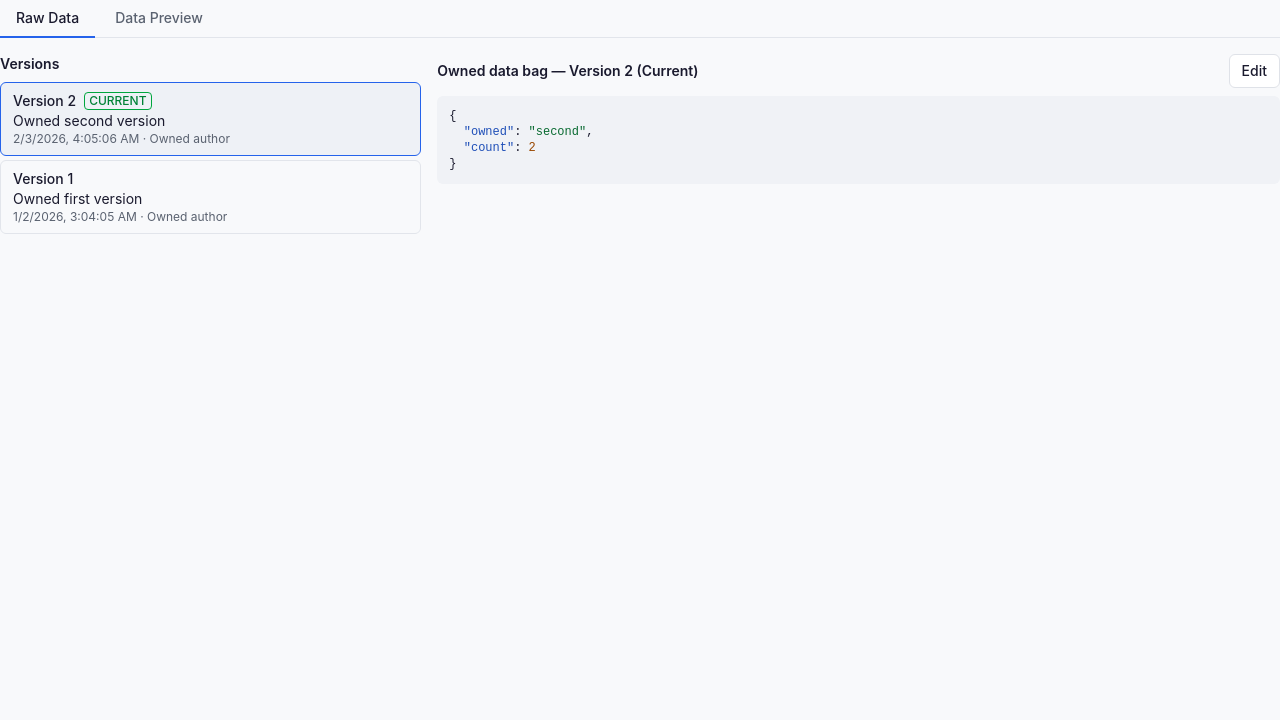
Test: DataBagViewerWidget › keeps the editor open with the error when storing fails, and never closes on Escape
Click the button "Version 1".
click(40, 178)  # box [0,160,421,234]
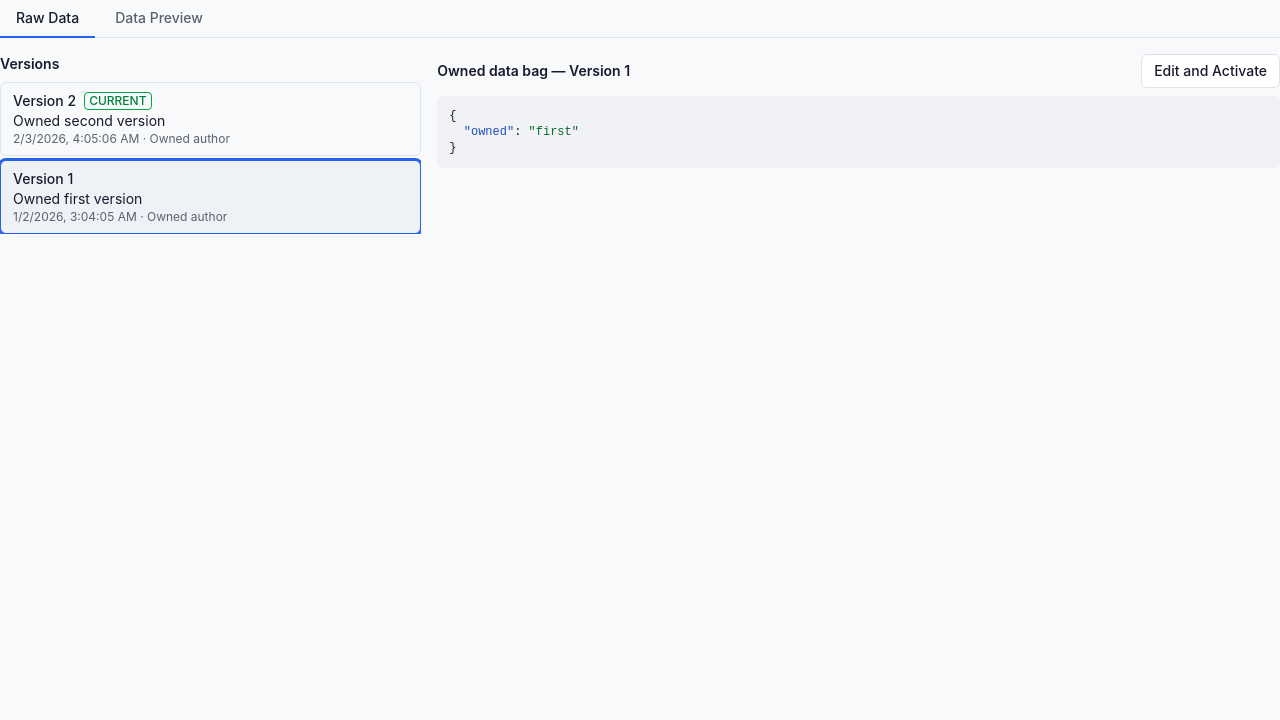
Click the button "Edit and Activate".
click(1211, 71)  # box [1141,54,1279,88]
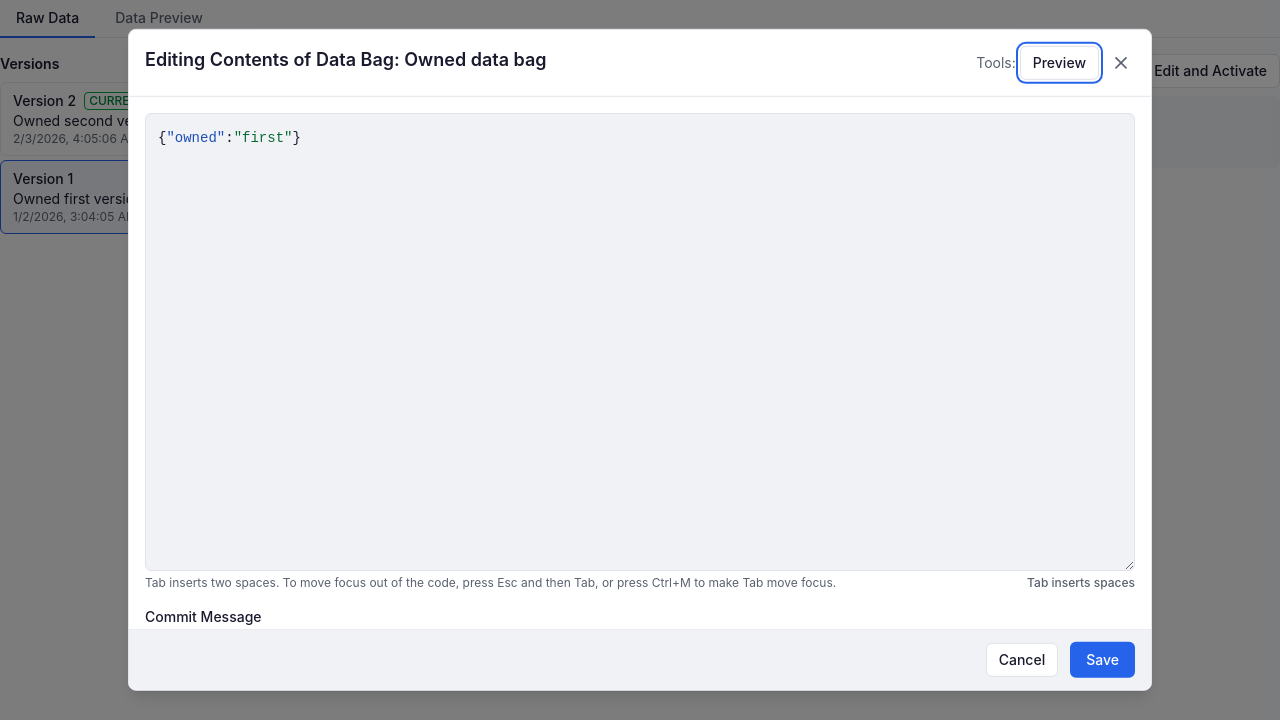
Now the text box named "Data bag contents" holds "{\"owned\":\"first\"}", box [146,114,1134,570]
Press Escape
Now the dialog is shown
Click the button "Save".
click(1103, 660)  # box [1070,642,1135,678]
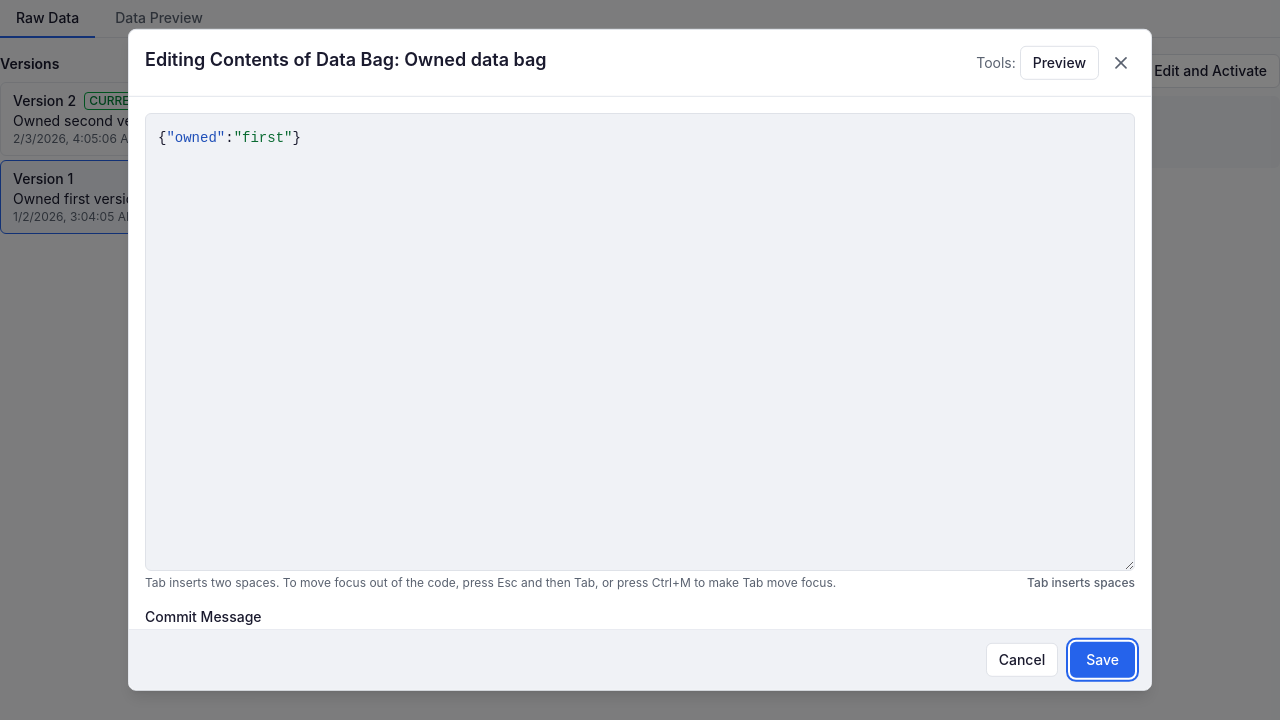
Click the button "Cancel".
click(1022, 660)  # box [986,643,1058,677]
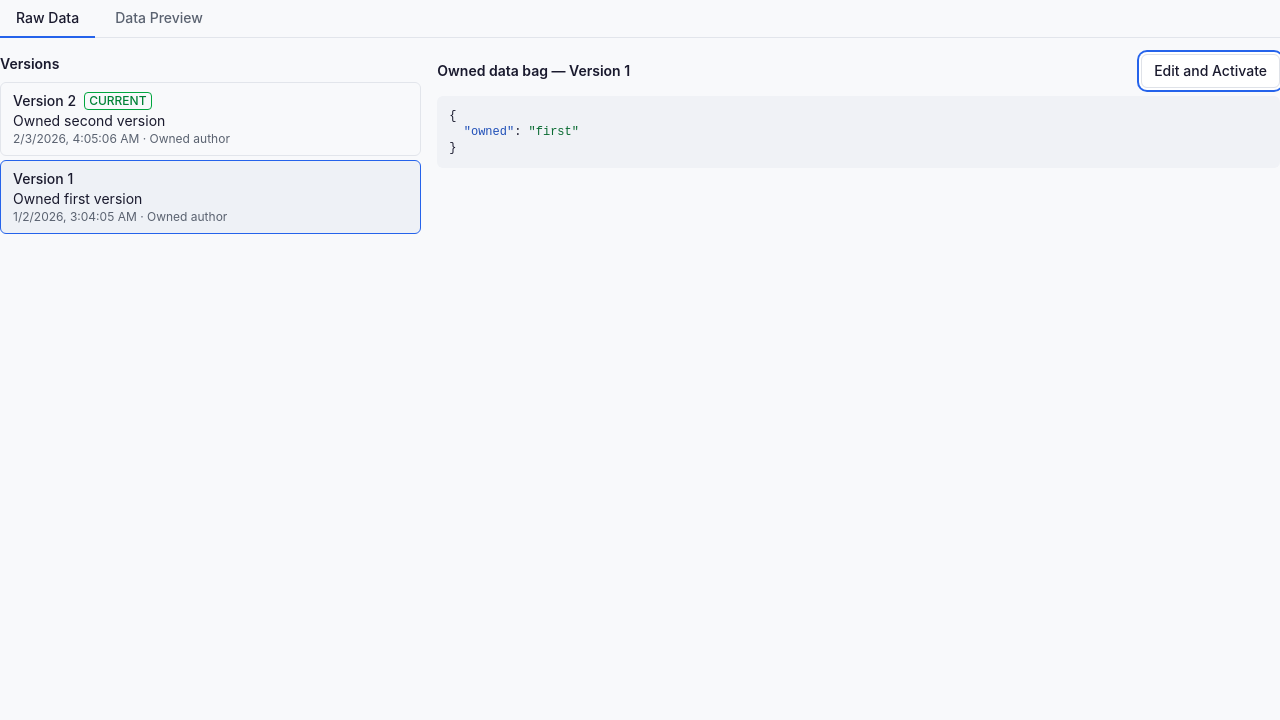
Now the dialog is gone
